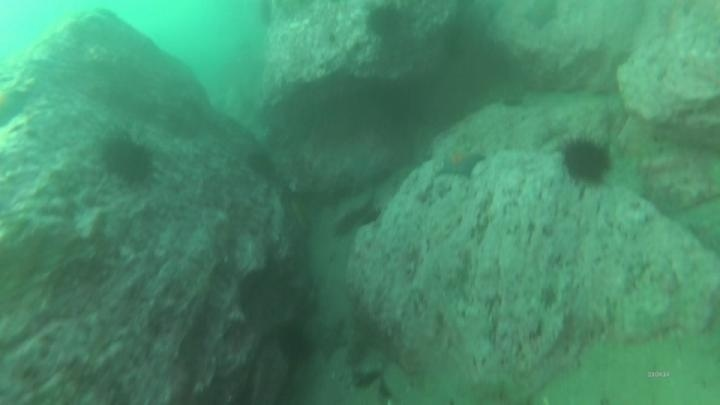echinus: (98, 132, 159, 187), (558, 134, 614, 188), (274, 322, 317, 366), (363, 3, 408, 42), (244, 149, 278, 180)
starfish: (435, 142, 487, 181), (520, 1, 562, 33)
